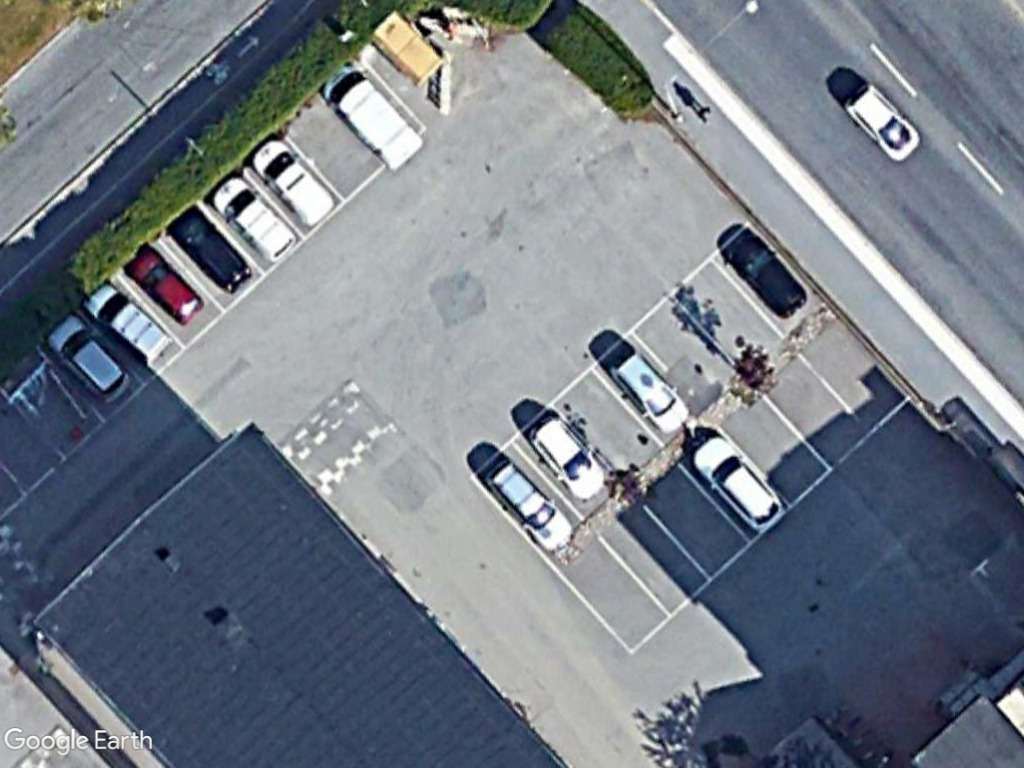car: (694, 424, 787, 535), (481, 455, 579, 557), (520, 406, 619, 504), (47, 308, 137, 409), (76, 282, 176, 369), (717, 230, 813, 320), (603, 343, 694, 437), (173, 203, 259, 299), (129, 233, 213, 326), (841, 78, 926, 166)
van: (319, 64, 433, 179), (209, 169, 306, 269), (246, 136, 339, 232)
